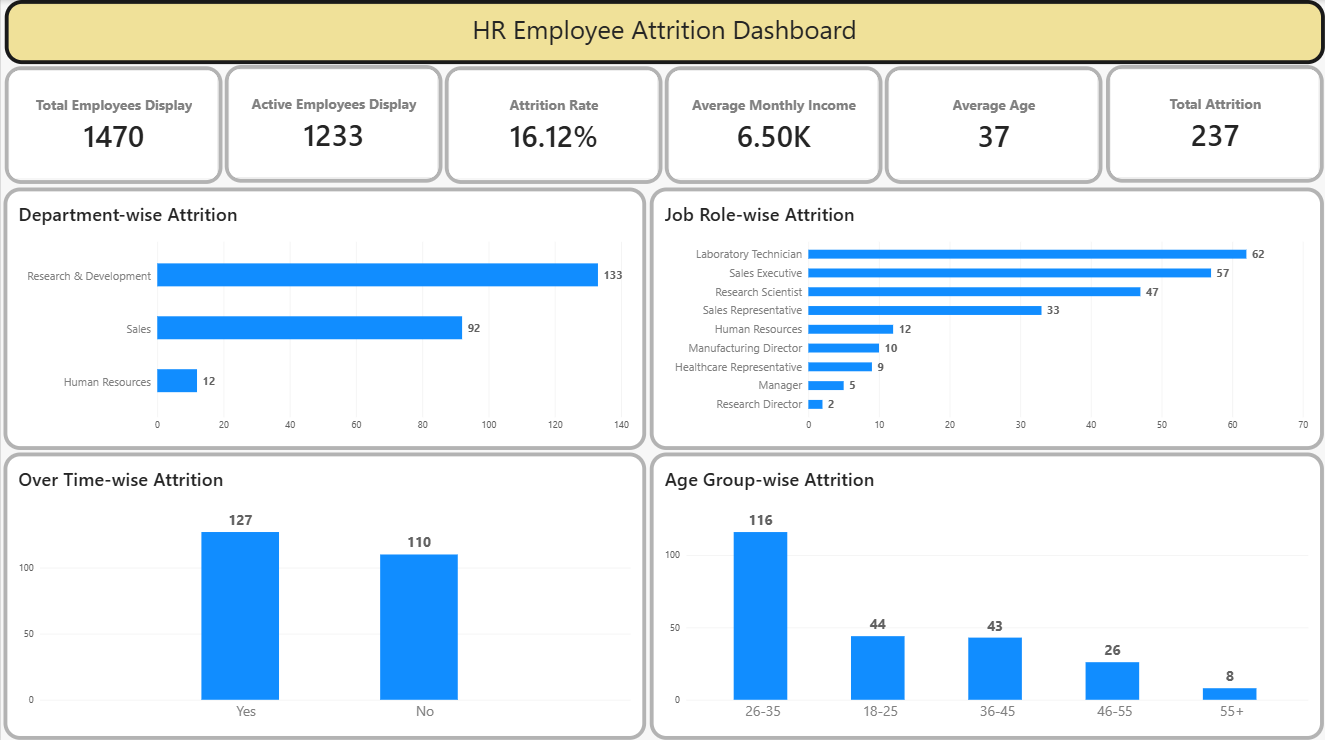

The dashboard page shown, as its layout file describes it:
{"tool":"powerbi","page":{"name":"HR Employee Attrition Dashboard","canvas":[1920,1080],"ordinal":0},"visuals":[{"type":"cardVisual","fields":{"Data":["HR_Employee_Attrition_Cleaned.Total Employees Display"]},"box":[5,96,315,170],"z":0},{"type":"cardVisual","fields":{"Data":["HR_Employee_Attrition_Cleaned.Active Employees Display"]},"box":[324,95,315,170],"z":1000},{"type":"cardVisual","fields":{"Data":["HR_Employee_Attrition_Cleaned.Average Monthly Income"]},"box":[961,96,315,170],"z":2000},{"type":"cardVisual","fields":{"Data":["HR_Employee_Attrition_Cleaned.Attrition Rate"]},"box":[643,96,315,170],"z":3000},{"type":"cardVisual","fields":{"Data":["HR_Employee_Attrition_Cleaned.Total Attrition"]},"box":[1599,95,315,170],"z":4000},{"type":"cardVisual","fields":{"Data":["HR_Employee_Attrition_Cleaned.Average Age"]},"box":[1280,96,315,170],"z":5000},{"type":"clusteredBarChart","title":"Department-wise Attrition","fields":{"Category":["HR_Employee_Attrition_Cleaned.Department"],"Y":["HR_Employee_Attrition_Cleaned.Total Attrition"]},"box":[3,272,930,380],"z":6000},{"type":"clusteredBarChart","title":"Job Role-wise Attrition","fields":{"Category":["HR_Employee_Attrition_Cleaned.JobRole"],"Y":["HR_Employee_Attrition_Cleaned.Total Attrition"]},"box":[940,272,976,380],"z":7000},{"type":"clusteredColumnChart","title":"Over Time-wise Attrition","fields":{"Category":["HR_Employee_Attrition_Cleaned.OverTime"],"Y":["HR_Employee_Attrition_Cleaned.Total Attrition"]},"box":[3,656,930,416],"z":8000},{"type":"clusteredColumnChart","title":"Age Group-wise Attrition","fields":{"Category":["HR_Employee_Attrition_Cleaned.Age Group"],"Y":["HR_Employee_Attrition_Cleaned.Total Attrition"]},"box":[940,656,976,416],"z":9000},{"type":"textbox","box":[6,0,1911,93],"z":10000}]}

Visuals, with their boxes in screenshot pixels (x1, y1, x2, y2), scaled from the page's 1920x1080 canvas onto the 1325x740 screenshot:
cardVisual - HR_Employee_Attrition_Cleaned.Total Employees Display: pyautogui.locateOnScreen(3, 66, 221, 182)
cardVisual - HR_Employee_Attrition_Cleaned.Active Employees Display: pyautogui.locateOnScreen(224, 65, 441, 182)
cardVisual - HR_Employee_Attrition_Cleaned.Average Monthly Income: pyautogui.locateOnScreen(663, 66, 881, 182)
cardVisual - HR_Employee_Attrition_Cleaned.Attrition Rate: pyautogui.locateOnScreen(444, 66, 661, 182)
cardVisual - HR_Employee_Attrition_Cleaned.Total Attrition: pyautogui.locateOnScreen(1103, 65, 1321, 182)
cardVisual - HR_Employee_Attrition_Cleaned.Average Age: pyautogui.locateOnScreen(883, 66, 1101, 182)
"Department-wise Attrition" clusteredBarChart: pyautogui.locateOnScreen(2, 186, 644, 447)
"Job Role-wise Attrition" clusteredBarChart: pyautogui.locateOnScreen(649, 186, 1322, 447)
"Over Time-wise Attrition" clusteredColumnChart: pyautogui.locateOnScreen(2, 449, 644, 735)
"Age Group-wise Attrition" clusteredColumnChart: pyautogui.locateOnScreen(649, 449, 1322, 735)
textbox: pyautogui.locateOnScreen(4, 0, 1323, 64)
